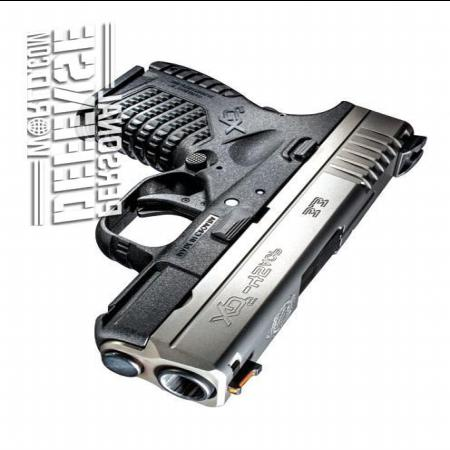Pistol: (83, 53, 429, 407)
